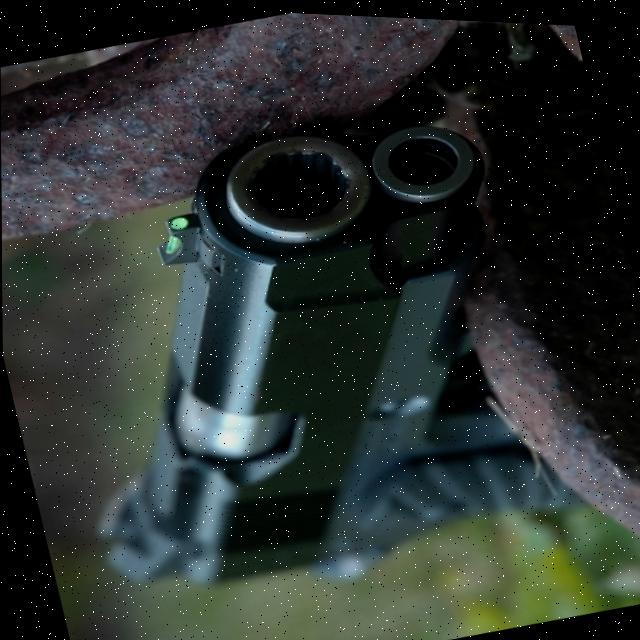pistol: (7, 66, 597, 640)
